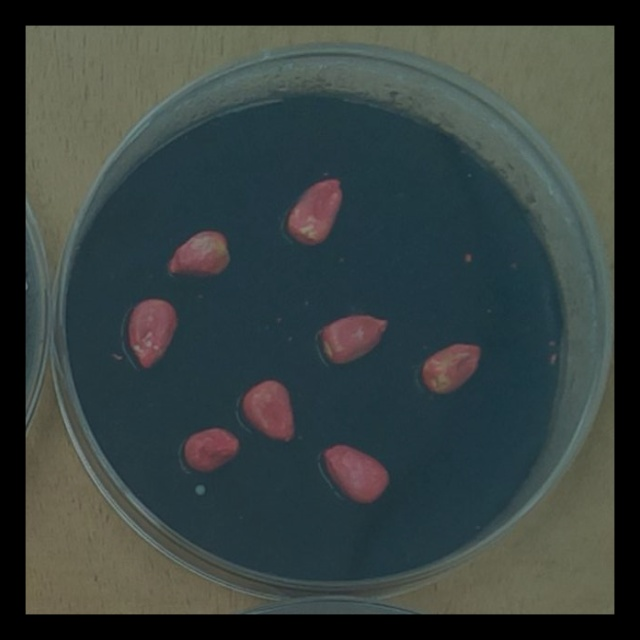Zea mays: (317, 438, 396, 511), (282, 171, 349, 254), (313, 308, 394, 372), (124, 292, 184, 377), (235, 374, 302, 448), (160, 226, 239, 285), (414, 339, 487, 401), (177, 423, 246, 480)
